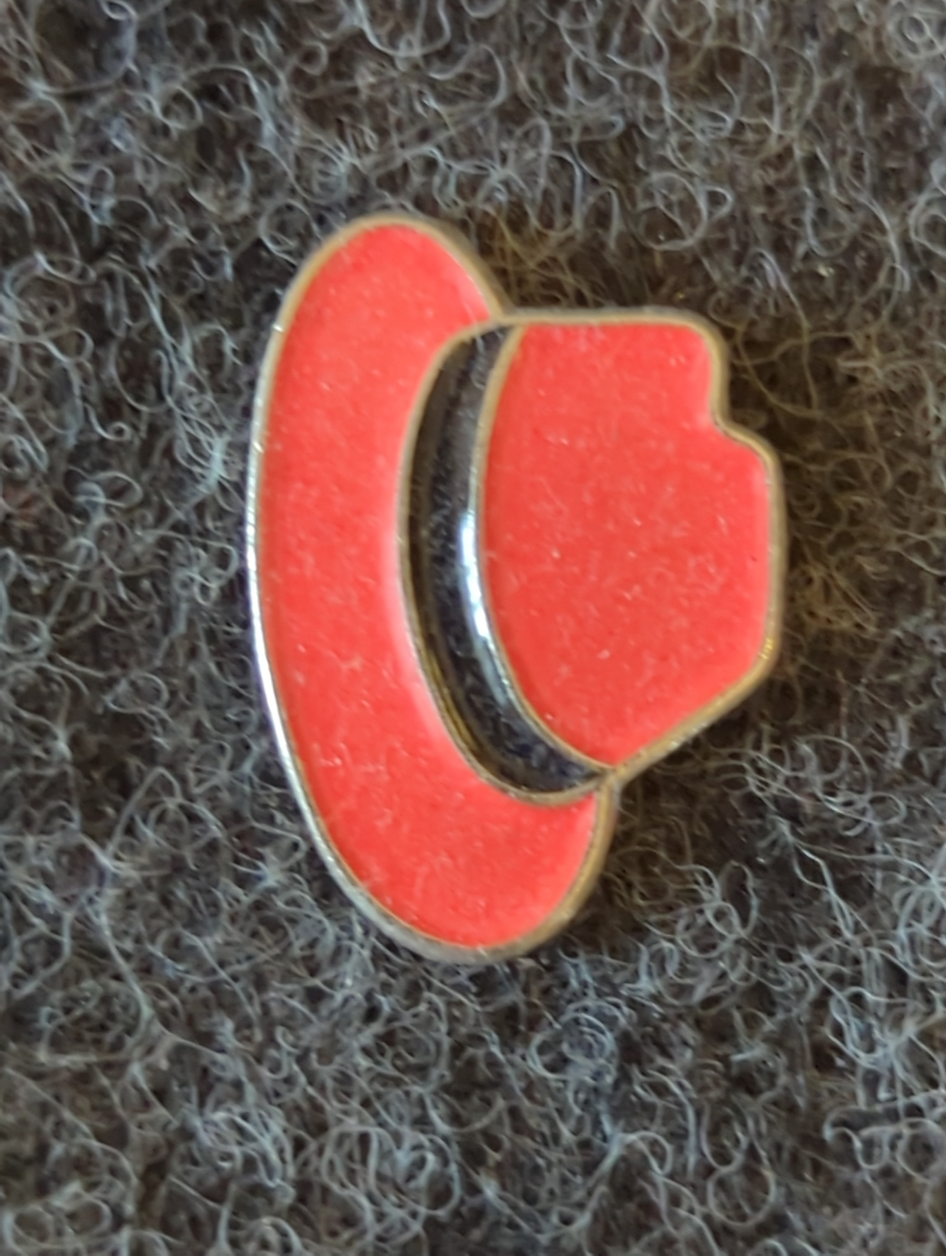Red-Hat: (144, 62, 919, 1068)
